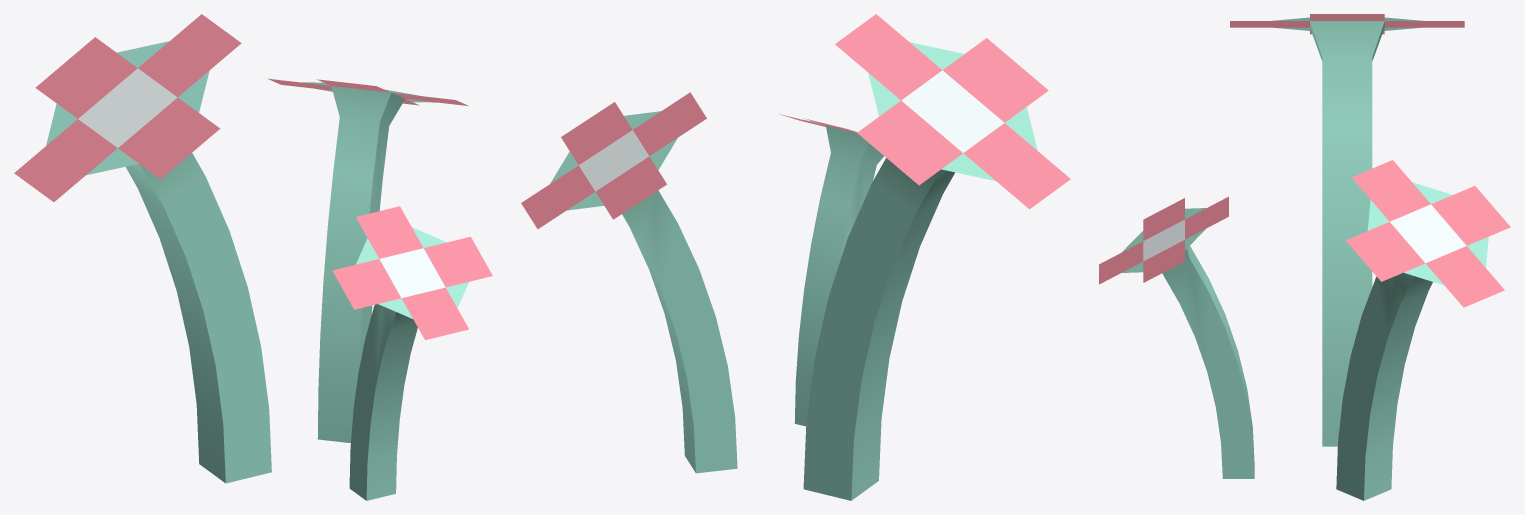
The picture shows the model from 3 angles, left to right: view 1: azimuth 30°, elevation 25°; view 2: azimuth 150°, elevation 25°; view 3: azimuth 270°, elevation 25°; orthographic projection. The views are drawn at different scales.
Parts seen in each view (by area): view 1: flowers; view 2: flowers; view 3: flowers.
Part boxes in pixels (box(x1,y1,x2,y2)): flowers: box(14, 14, 492, 500); flowers: box(521, 14, 1070, 500); flowers: box(1099, 14, 1510, 500).
Bounding box in the file's own units: 0.4975 × 0.464 × 0.4168.
